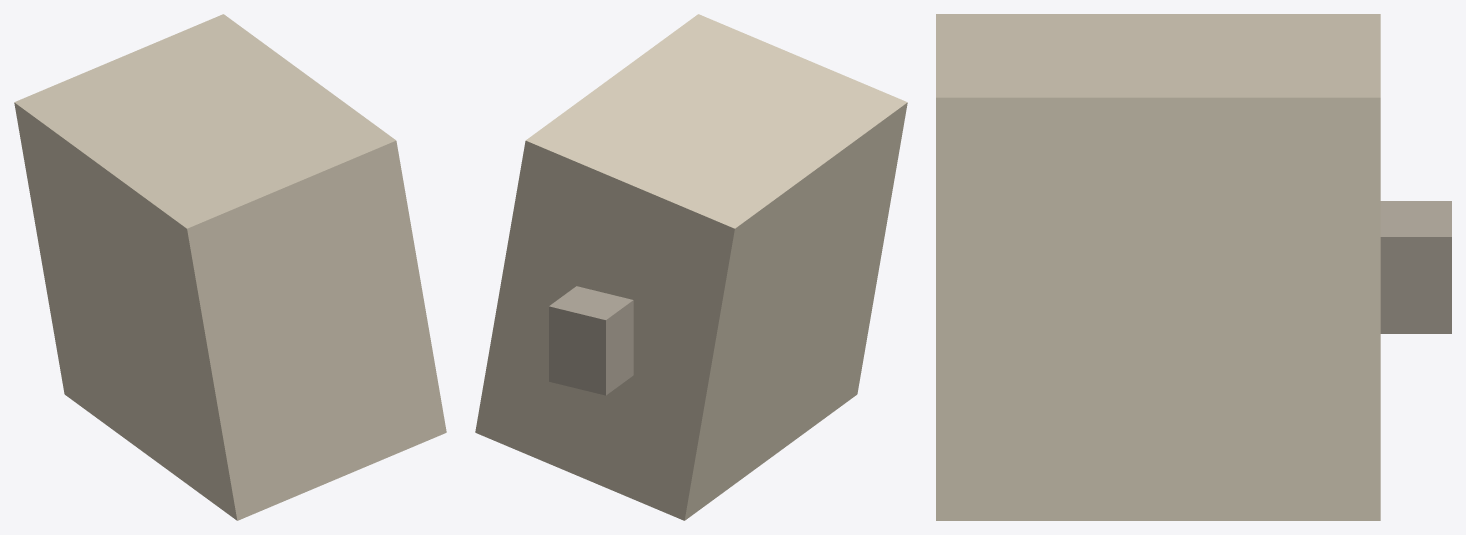
Rendered from historic-palestine-14_28_3557_3225.glb.
The picture shows the model from 3 angles, left to right: view 1: azimuth 30°, elevation 25°; view 2: azimuth 150°, elevation 25°; view 3: azimuth 270°, elevation 25°; orthographic projection. The views are drawn at different scales.
Parts seen in each view (by area): view 1: Building_; view 2: Building_, Roof access hut; view 3: Building_, Roof access hut.
Boxes of the visible parts, x1,y1,x2,y2 form: Building_: (14,14,446,520); Building_: (475,14,907,520); Roof access hut: (549,286,633,395); Building_: (936,14,1380,520); Roof access hut: (1380,201,1451,333).
Bounding box in the file's own units: 6.51 × 8.18 × 8.7.
